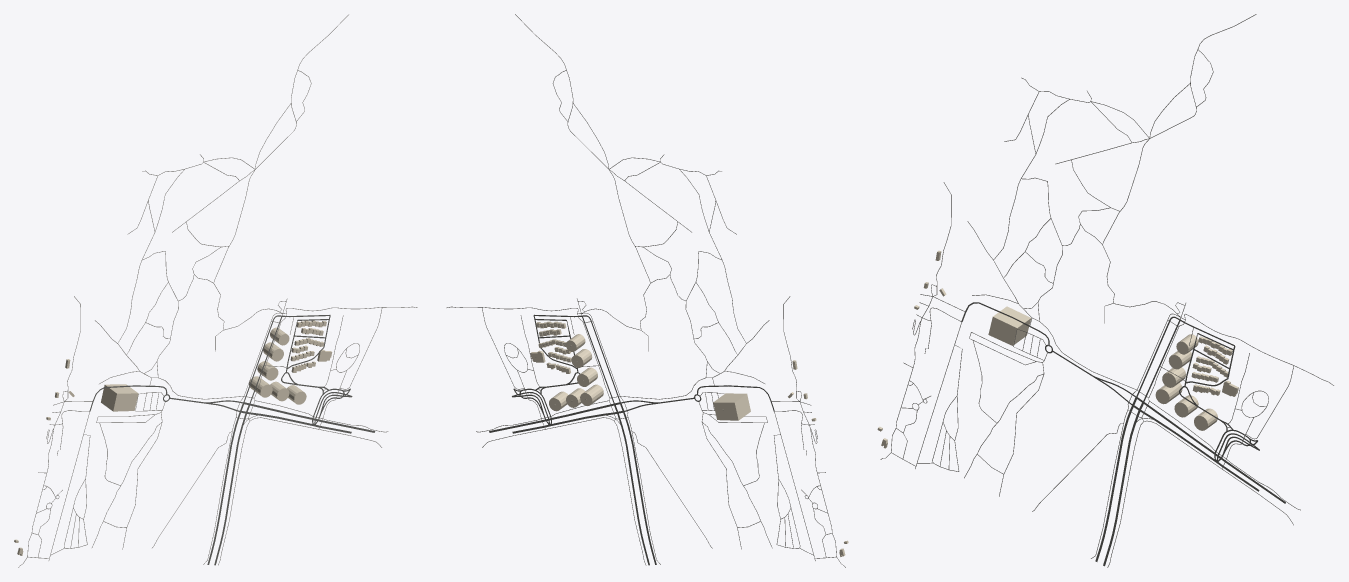
File: historic-palestine-06_27_3479_3214.glb
3 views of the same model, side by side, from view 1: azimuth 30°, elevation 25°; view 2: azimuth 150°, elevation 25°; view 3: azimuth 330°, elevation 25° (orthographic). The views are drawn at different scales.
Visible parts, largest first — view 1: Building_; view 2: Building_; view 3: Building_.
Boxes of the visible parts, x1,y1,x2,y2 form: Building_: [101, 384, 138, 411]; Building_: [713, 393, 750, 420]; Building_: [988, 306, 1031, 345].
Size of the model in its own units: 1139 by 1405 by 62.2.
